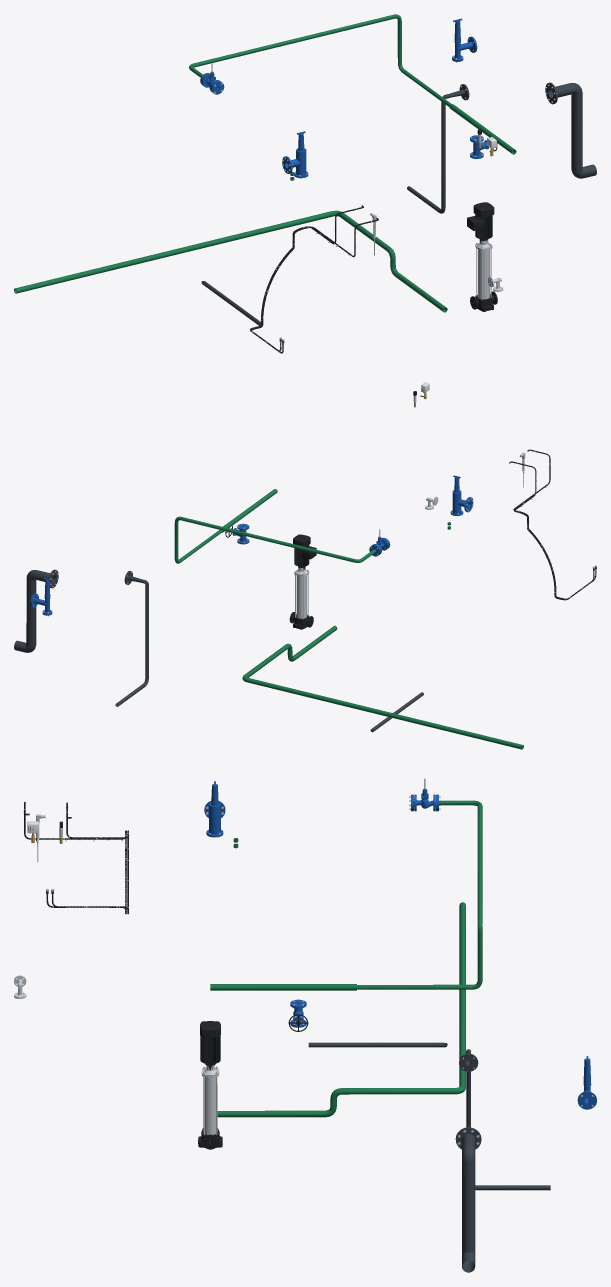
Rendered from s4000-6-DoQQ1ha4.glb.
3 views of the same model, one above another, from view 1: azimuth 30°, elevation 25°; view 2: azimuth 150°, elevation 25°; view 3: azimuth 270°, elevation 25° (orthographic). The views are drawn at different scales.
Parts seen in each view (by area): view 1: suction_common / green, bdv_water_drain / dark, to_direct / green, bottom_to_bdv / dark, pump_1 CAD solid 15, safety_2 / blue, pump_1 CAD solid 2, wiring_low_level_1 / black, flash_steam_common / blue, pump_delivery / green, wiring_lp400 / black; view 2: suction_common / green, to_direct / green, bdv_water_drain / dark, bottom_to_bdv / dark, pump_1 CAD solid 15, safety_2 / blue; view 3: suction_common / green, bdv_water_drain / dark, to_direct / green, bottom_to_bdv / dark, pump_delivery / green, pump_1 CAD solid 15, bottom_piping / dark, pump_1 CAD solid 2, safety_2 / blue.
Part boxes in pixels (x1,y1,x2,y2): suction_common / green: (14,210,447,312); bdv_water_drain / dark: (545,82,596,178); to_direct / green: (189,14,451,106); bottom_to_bdv / dark: (407,84,469,213); pump_1 CAD solid 15: (467,202,494,239); safety_2 / blue: (282,131,308,178); pump_1 CAD solid 2: (478,249,489,299); wiring_low_level_1 / black: (251,218,378,353); flash_steam_common / blue: (452,18,477,61); pump_delivery / green: (449,104,516,154); wiring_lp400 / black: (250,205,363,351); suction_common / green: (242,625,523,749); to_direct / green: (174,516,375,563); bdv_water_drain / dark: (14,569,58,652); bottom_to_bdv / dark: (115,571,148,706); pump_1 CAD solid 15: (293,534,316,567); safety_2 / blue: (450,475,473,515); suction_common / green: (217,902,465,1117); bdv_water_drain / dark: (455,1127,481,1272); to_direct / green: (357,800,482,989); bottom_to_bdv / dark: (459,1049,550,1190); pump_delivery / green: (210,984,356,990); pump_1 CAD solid 15: (200,1021,220,1064); bottom_piping / dark: (308,1042,447,1047); pump_1 CAD solid 2: (203,1077,217,1134); safety_2 / blue: (204,781,225,837).
Size of the model in its own units: 6.75 by 2.73 by 4.97.
